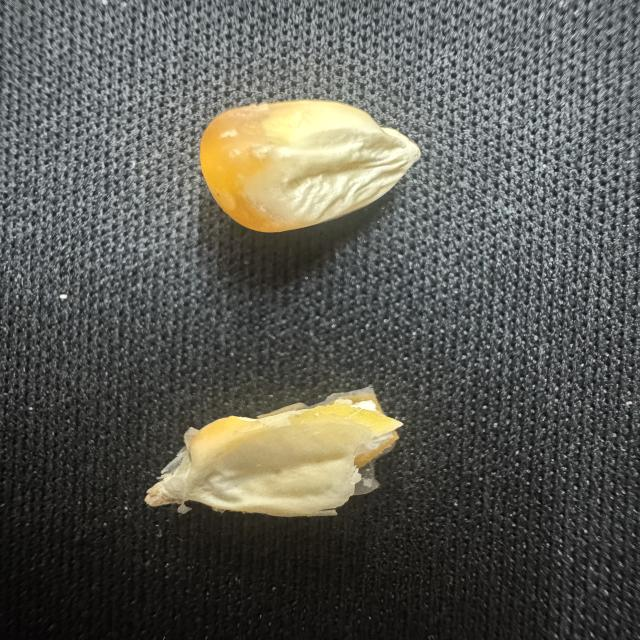Bad-Seed: (130, 376, 422, 538), (189, 96, 429, 240)
